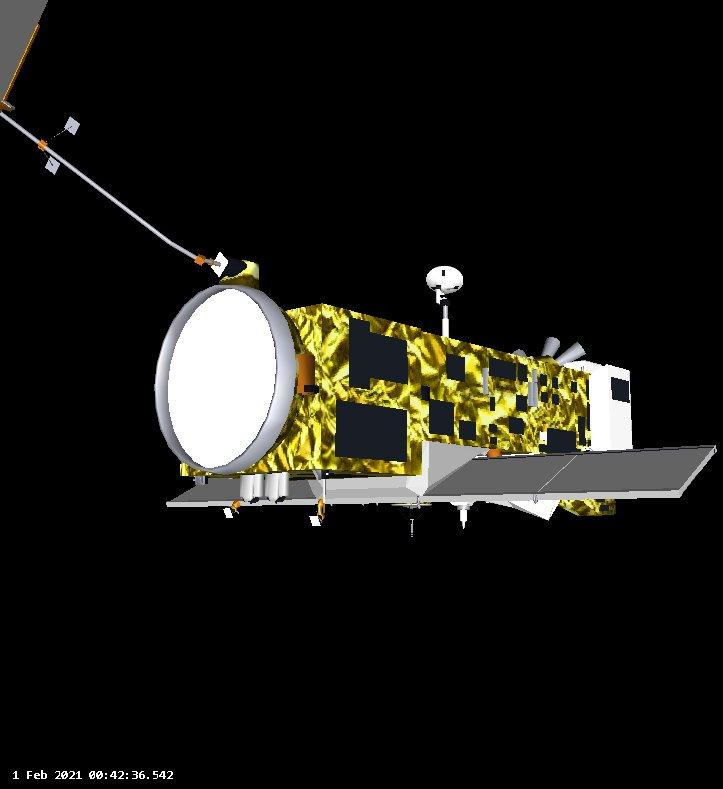antenna: (426, 263, 464, 295)
body: (209, 302, 638, 520)
solar: (421, 442, 718, 500)
thruster: (551, 340, 589, 367), (539, 334, 565, 359), (510, 347, 528, 358)
